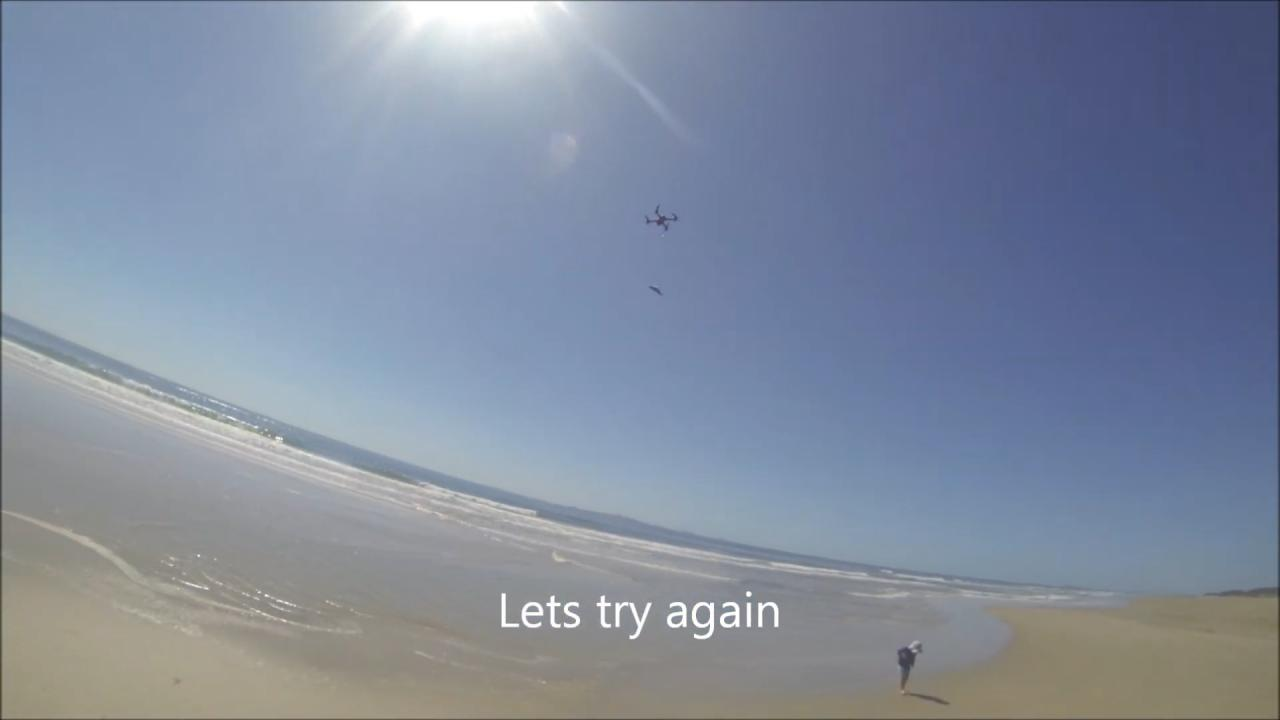Drone: (636, 195, 688, 238)
